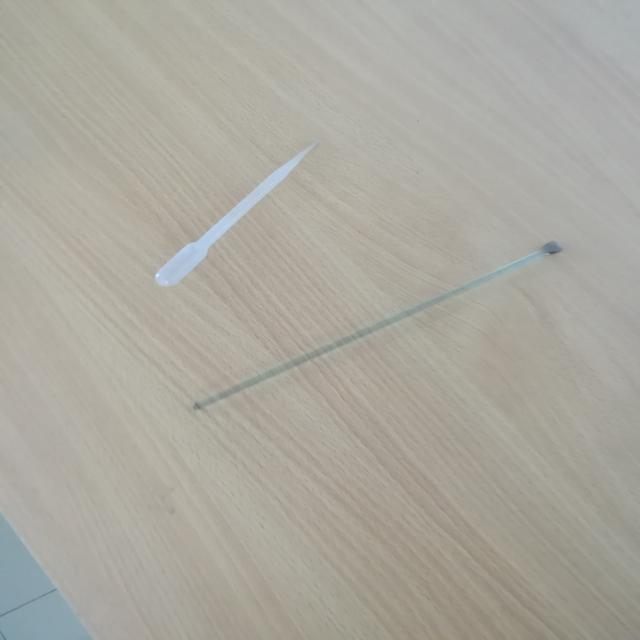Glass_Rod: (172, 234, 594, 451)
Pipette: (91, 125, 337, 297)
